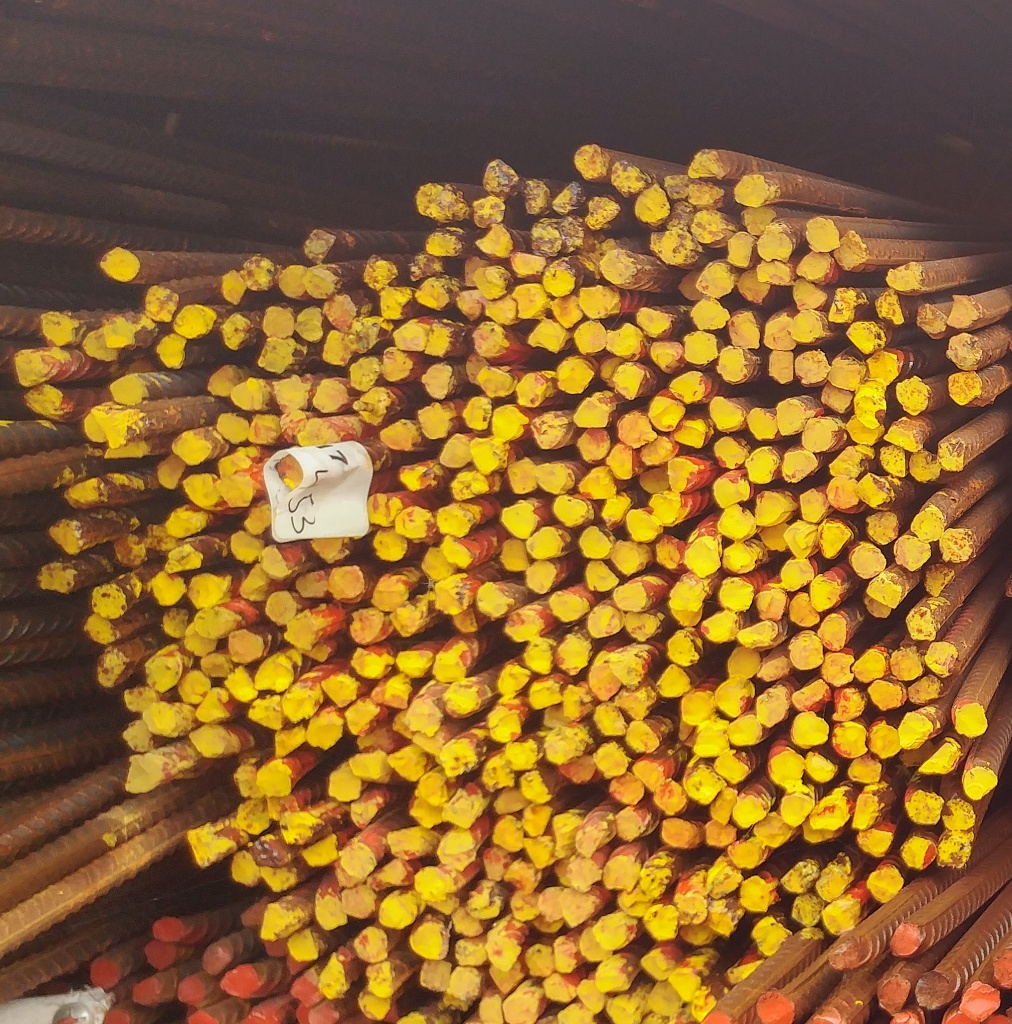dipstick: (646, 221, 702, 263), (144, 694, 195, 735), (811, 855, 856, 901), (261, 894, 303, 942), (182, 571, 235, 608), (255, 539, 299, 583), (84, 323, 132, 363), (439, 735, 482, 777), (394, 503, 438, 544), (408, 917, 448, 962), (17, 382, 66, 418), (828, 933, 870, 975), (882, 418, 927, 457), (854, 471, 896, 512), (439, 832, 481, 873), (497, 499, 541, 538), (555, 884, 599, 923), (486, 928, 525, 972), (14, 348, 60, 385), (708, 471, 754, 508), (143, 702, 194, 735), (246, 835, 297, 868), (586, 652, 625, 695), (729, 172, 774, 209), (84, 407, 130, 443), (615, 410, 655, 451), (664, 625, 703, 667), (502, 985, 545, 1023), (349, 643, 393, 680), (389, 313, 429, 353), (162, 503, 212, 535), (299, 262, 340, 301), (554, 633, 593, 674), (398, 698, 440, 736), (100, 247, 143, 284), (38, 313, 82, 349), (162, 537, 206, 573), (668, 584, 703, 629), (682, 537, 721, 577), (948, 331, 986, 372), (420, 361, 458, 402), (312, 375, 353, 413), (844, 315, 886, 352), (143, 653, 185, 690), (348, 745, 390, 782), (658, 815, 700, 852), (786, 275, 829, 311), (46, 517, 82, 560), (895, 374, 930, 418), (105, 369, 149, 404), (708, 470, 752, 505), (510, 374, 555, 408), (219, 964, 264, 998), (736, 264, 774, 304), (686, 210, 732, 243), (830, 231, 867, 272), (554, 358, 595, 395), (417, 403, 458, 440), (821, 897, 862, 934), (230, 379, 272, 415), (864, 507, 900, 549), (596, 955, 638, 991), (633, 301, 676, 336), (947, 365, 982, 408), (376, 284, 415, 322), (358, 387, 397, 425), (175, 425, 213, 464), (847, 544, 886, 582), (614, 644, 653, 682), (442, 791, 480, 830), (670, 887, 709, 925), (962, 982, 1001, 1020), (790, 628, 827, 668), (482, 704, 522, 741), (326, 764, 363, 804), (433, 502, 474, 538), (35, 561, 76, 597), (346, 608, 387, 644), (764, 751, 805, 787), (801, 417, 843, 452), (502, 609, 546, 642), (912, 301, 950, 339), (790, 350, 828, 388), (607, 162, 646, 199), (531, 408, 568, 447), (552, 490, 589, 529), (750, 692, 789, 729), (256, 761, 295, 798), (189, 829, 226, 868), (961, 764, 998, 803), (939, 830, 976, 869), (602, 853, 641, 890), (444, 968, 483, 1005), (465, 880, 502, 919), (945, 293, 981, 333), (707, 393, 743, 433), (824, 476, 864, 512), (576, 525, 616, 561), (684, 763, 720, 803), (875, 975, 915, 1011), (410, 865, 450, 901), (235, 256, 276, 291), (470, 323, 511, 358), (327, 567, 368, 602), (705, 435, 747, 469), (545, 727, 587, 761), (734, 617, 778, 649), (360, 254, 398, 291), (473, 261, 510, 299), (725, 310, 762, 348), (645, 394, 682, 432), (491, 403, 528, 441), (182, 472, 219, 510), (90, 582, 127, 620), (442, 682, 480, 719), (899, 834, 937, 871), (642, 903, 680, 940), (774, 393, 810, 432), (785, 592, 824, 628), (780, 858, 816, 897), (216, 473, 256, 508), (744, 443, 779, 483), (304, 533, 360, 558), (118, 718, 158, 753), (335, 844, 370, 884), (141, 574, 186, 605), (884, 261, 925, 295), (724, 539, 758, 580), (550, 937, 584, 978), (546, 183, 588, 216), (549, 589, 591, 622), (170, 307, 216, 337), (406, 252, 449, 284), (750, 493, 793, 525), (568, 319, 605, 356), (356, 390, 393, 427), (528, 523, 565, 560), (473, 581, 510, 618), (372, 578, 409, 615), (818, 651, 855, 688), (693, 721, 730, 758), (844, 791, 881, 828), (634, 188, 672, 224), (758, 224, 794, 262), (95, 651, 133, 687), (224, 849, 262, 885), (779, 792, 817, 828), (728, 833, 764, 871), (530, 317, 569, 352), (682, 329, 721, 364), (905, 448, 944, 483), (651, 666, 695, 697), (574, 144, 608, 184), (787, 308, 827, 342), (719, 508, 759, 542), (892, 534, 932, 568), (302, 713, 342, 747), (408, 795, 448, 829), (873, 287, 906, 328), (605, 323, 646, 356), (423, 225, 465, 257), (829, 447, 872, 478), (688, 148, 725, 184), (575, 396, 612, 432), (438, 434, 474, 471), (611, 540, 648, 576), (240, 562, 277, 598), (520, 639, 556, 676), (222, 671, 259, 707), (122, 758, 159, 794), (812, 792, 849, 828), (540, 968, 577, 1004), (483, 163, 521, 198), (474, 225, 512, 260), (783, 522, 821, 557), (717, 578, 755, 613), (300, 832, 338, 867), (323, 296, 362, 330), (598, 250, 637, 284), (694, 263, 733, 297), (67, 479, 106, 513), (488, 957, 527, 991), (89, 955, 123, 994), (468, 438, 508, 471), (717, 678, 757, 711), (284, 927, 324, 960), (88, 434, 145, 457), (779, 449, 821, 480), (897, 712, 933, 748), (361, 962, 397, 998), (827, 355, 864, 390), (912, 504, 949, 539), (868, 866, 903, 903), (916, 972, 951, 1009), (150, 337, 188, 371), (935, 437, 973, 471), (365, 491, 399, 529), (433, 646, 471, 680), (623, 716, 657, 754), (393, 462, 436, 492), (583, 195, 622, 228), (645, 492, 684, 525), (260, 858, 299, 891), (757, 991, 796, 1024), (388, 747, 428, 779), (129, 974, 169, 1006), (604, 992, 648, 1021), (388, 828, 429, 859), (718, 347, 754, 382), (574, 427, 609, 463), (939, 527, 975, 562), (867, 574, 903, 609), (805, 578, 841, 613), (481, 756, 516, 792), (630, 756, 665, 792), (939, 797, 975, 832), (858, 820, 893, 856), (376, 892, 412, 927), (312, 897, 348, 932), (173, 970, 209, 1005), (690, 299, 727, 333), (753, 916, 787, 953), (520, 560, 558, 593), (231, 761, 264, 799), (735, 876, 768, 914), (621, 608, 660, 640), (274, 259, 305, 299), (347, 318, 387, 349), (227, 630, 267, 661), (536, 465, 577, 495), (280, 813, 321, 843), (320, 955, 350, 996), (610, 362, 645, 397), (906, 789, 941, 824), (146, 937, 181, 972), (764, 316, 798, 352), (578, 464, 614, 498), (373, 527, 409, 561), (230, 524, 264, 560), (596, 741, 630, 777), (705, 864, 739, 900), (513, 282, 546, 319), (542, 257, 575, 294), (378, 348, 415, 381), (272, 377, 309, 410), (261, 337, 298, 370), (500, 538, 533, 575), (495, 666, 532, 699), (559, 683, 592, 720), (565, 857, 602, 890), (796, 251, 834, 283), (828, 285, 860, 323), (744, 407, 782, 439), (314, 374, 346, 412), (777, 558, 815, 590), (256, 658, 294, 690), (866, 679, 904, 711), (524, 942, 556, 980), (519, 176, 550, 215), (644, 340, 683, 371), (444, 534, 475, 573), (261, 591, 300, 622), (341, 702, 380, 733), (174, 670, 214, 700), (149, 914, 189, 944), (830, 722, 865, 756), (612, 805, 646, 840), (369, 682, 410, 711), (546, 292, 582, 325), (820, 521, 853, 557), (954, 702, 987, 738), (866, 724, 899, 760), (890, 919, 923, 955), (596, 912, 632, 945), (507, 859, 543, 892), (217, 312, 249, 349), (851, 382, 888, 414), (754, 588, 791, 620), (585, 604, 622, 636), (844, 411, 882, 442), (618, 688, 657, 718), (247, 700, 287, 729), (203, 362, 237, 396), (576, 283, 609, 318), (805, 217, 838, 252), (154, 455, 189, 488), (461, 397, 496, 430), (505, 737, 538, 772), (712, 750, 747, 783), (924, 743, 957, 778), (681, 916, 716, 949), (509, 892, 544, 925), (413, 773, 449, 805), (490, 816, 522, 852), (685, 182, 726, 210), (473, 193, 504, 230), (413, 278, 450, 309), (652, 538, 682, 576), (824, 691, 862, 721), (755, 261, 797, 288), (355, 730, 400, 755), (480, 363, 514, 396), (581, 559, 615, 592), (728, 716, 762, 749), (518, 770, 552, 803), (644, 945, 677, 979), (672, 372, 707, 404), (612, 582, 647, 614), (906, 607, 938, 642), (856, 648, 888, 683), (323, 676, 358, 708), (847, 752, 882, 784), (730, 795, 765, 827), (346, 356, 382, 387), (106, 531, 142, 562), (644, 855, 675, 891), (707, 899, 738, 935), (504, 459, 541, 489), (757, 651, 794, 681), (356, 924, 386, 961), (180, 625, 218, 654), (701, 614, 740, 642), (606, 774, 645, 802), (423, 321, 457, 353), (674, 415, 708, 447), (927, 642, 959, 676), (281, 689, 315, 721), (683, 690, 715, 724), (558, 218, 589, 253), (359, 986, 394, 1017), (317, 333, 353, 363), (397, 645, 433, 675), (562, 754, 598, 784), (623, 612, 664, 638), (618, 889, 659, 915), (142, 519, 180, 547), (190, 730, 228, 758), (423, 549, 455, 582), (649, 981, 682, 1013), (215, 410, 246, 444), (890, 649, 924, 680), (870, 349, 900, 384), (198, 690, 233, 720), (794, 683, 829, 713), (793, 716, 828, 746), (721, 233, 757, 262), (285, 614, 314, 650), (667, 459, 699, 491), (654, 784, 686, 816), (804, 751, 836, 783), (789, 893, 821, 925), (575, 978, 607, 1010), (349, 795, 380, 828), (390, 601, 424, 631), (192, 610, 227, 639), (526, 681, 565, 707), (626, 512, 662, 540), (819, 614, 846, 651), (268, 728, 305, 755), (437, 192, 469, 223), (262, 307, 295, 337), (510, 248, 543, 278), (593, 704, 623, 737), (240, 803, 273, 833), (205, 941, 235, 974), (480, 293, 518, 319), (701, 818, 739, 844), (199, 651, 233, 680), (768, 347, 796, 382), (296, 569, 332, 596), (876, 444, 907, 475), (797, 490, 827, 522), (382, 422, 415, 451), (142, 289, 177, 316), (821, 385, 856, 412), (249, 415, 284, 442), (530, 223, 561, 253), (760, 523, 790, 554), (421, 960, 452, 990), (292, 309, 324, 338), (908, 673, 940, 702), (672, 965, 701, 997), (603, 494, 636, 522), (121, 683, 163, 705), (221, 447, 261, 470), (244, 502, 270, 537), (306, 230, 336, 260), (432, 583, 462, 613), (576, 825, 606, 855), (274, 459, 303, 490), (519, 805, 550, 834), (295, 1001, 334, 1024), (279, 408, 307, 440), (292, 976, 324, 1004), (549, 813, 582, 840), (418, 184, 442, 221), (298, 421, 338, 443), (218, 273, 247, 303), (416, 730, 448, 757), (897, 743, 933, 767), (454, 937, 487, 963), (495, 783, 524, 812), (453, 290, 483, 318), (709, 789, 737, 819), (452, 909, 482, 937), (725, 652, 759, 676), (922, 566, 953, 592), (539, 887, 565, 918), (480, 849, 506, 880), (82, 617, 114, 642), (688, 988, 716, 1016), (640, 465, 669, 492), (739, 207, 769, 233), (159, 609, 189, 635), (241, 900, 269, 927), (992, 950, 1012, 987), (803, 821, 838, 842), (479, 994, 506, 1021), (435, 887, 460, 916), (727, 962, 762, 982), (678, 269, 701, 298), (454, 608, 480, 633), (269, 794, 295, 819), (264, 935, 292, 958), (543, 708, 574, 728), (189, 1007, 225, 1024), (376, 862, 408, 881), (600, 356, 623, 381), (663, 174, 690, 195), (465, 358, 488, 382), (103, 1005, 130, 1024), (247, 1009, 276, 1024), (704, 1011, 734, 1024), (401, 1012, 429, 1024)
